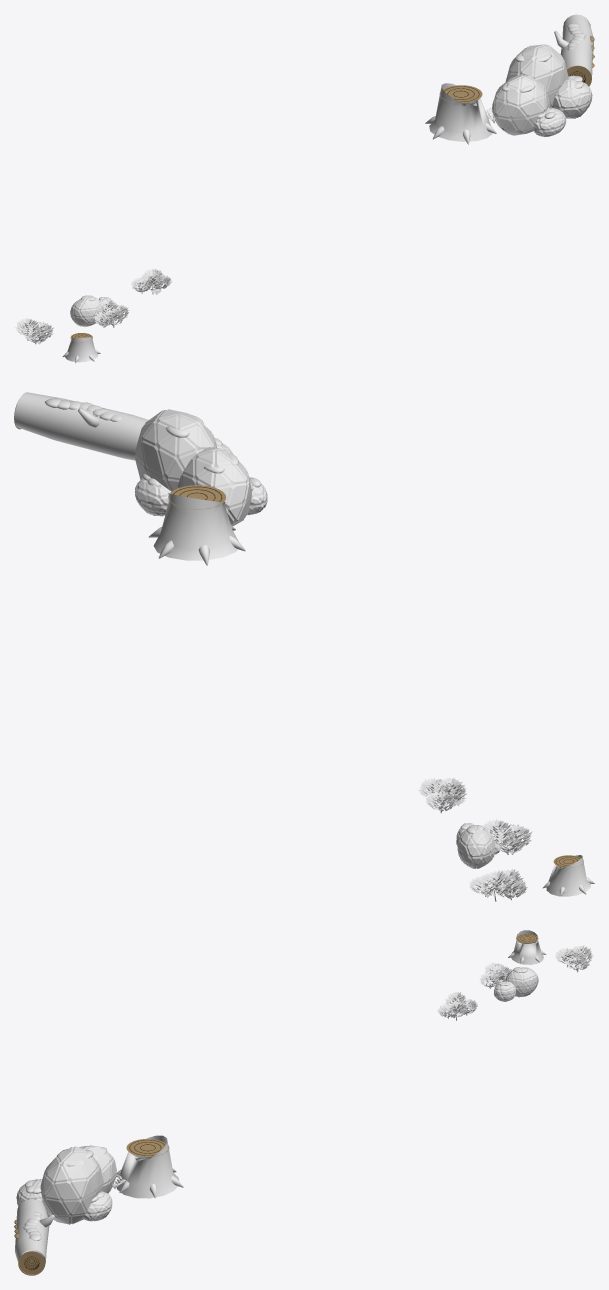
File: SM_DF_Explorer_2_2_Macro.fbx
The picture shows the model from 3 angles, top to bottom: view 1: azimuth 90°, elevation 25°; view 2: azimuth 150°, elevation 25°; view 3: azimuth 270°, elevation 25°; orthographic projection. The views are drawn at different scales.
Parts seen in each view (by area): view 1: SM_DF_Explorer_2_2_Macro; view 2: SM_DF_Explorer_2_2_Macro; view 3: SM_DF_Explorer_2_2_Macro.
Boxes of the visible parts, x1,y1,x2,y2 form: SM_DF_Explorer_2_2_Macro: [15, 14, 594, 363]; SM_DF_Explorer_2_2_Macro: [14, 392, 594, 901]; SM_DF_Explorer_2_2_Macro: [14, 930, 593, 1275].
Size of the model in its own units: 2785 by 2099 by 278.
